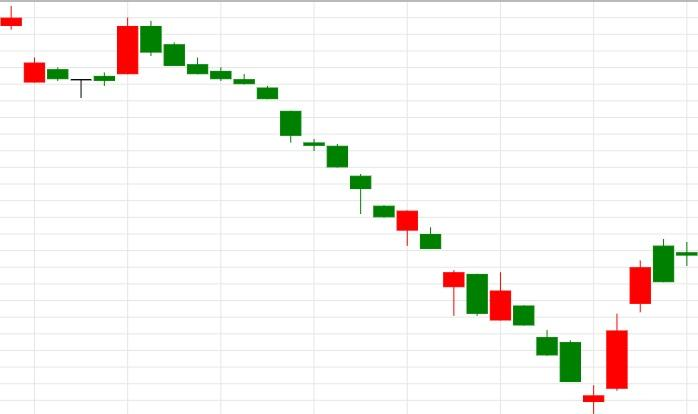morning_star_rise: (116, 18, 629, 414)
